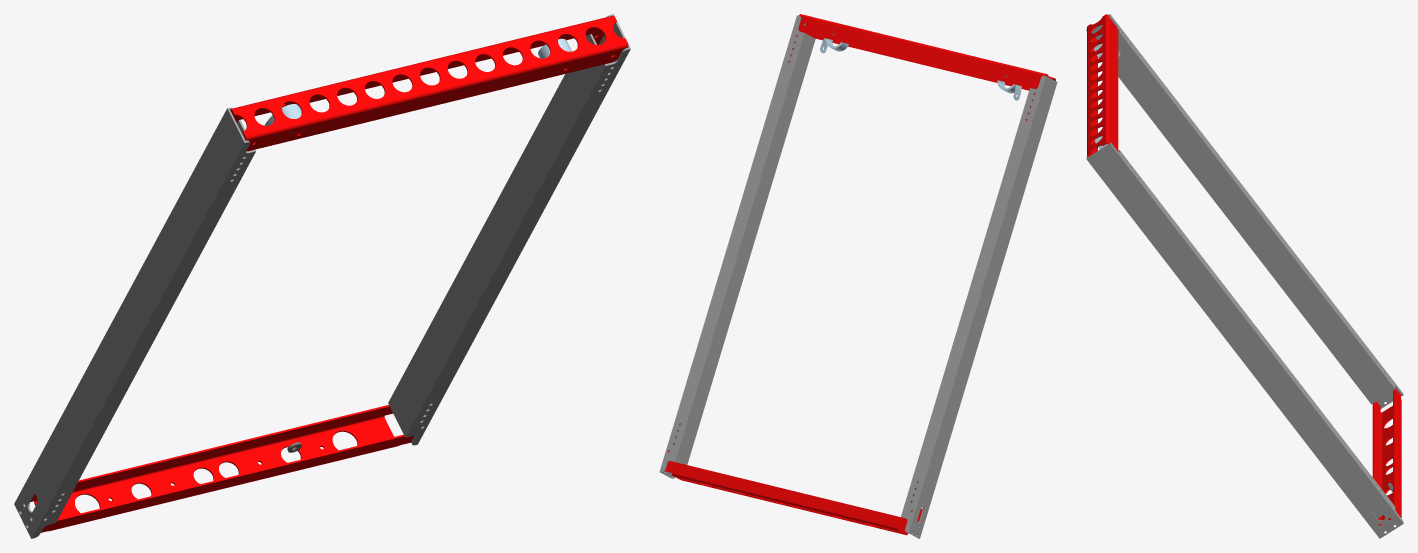
The picture shows the model from 3 angles, left to right: view 1: azimuth 30°, elevation 25°; view 2: azimuth 150°, elevation 25°; view 3: azimuth 270°, elevation 25°; orthographic projection. The views are drawn at different scales.
Parts seen in each view (by area): view 1: Left Stage 1 tube (Use this one in Assembly) (×2), Sheet metal moving stage top brace, Sheet metal Moving stage bottom brace; view 2: Left Stage 1 tube (Use this one in Assembly) (×2), Sheet metal moving stage top brace, Sheet metal Moving stage bottom brace; view 3: Left Stage 1 tube (Use this one in Assembly) (×2), Sheet metal moving stage top brace, Sheet metal Moving stage bottom brace.
Boxes of the visible parts, <box> form: Left Stage 1 tube (Use this one in Assembly) (×2): <box>14,14,630,538</box>; Sheet metal moving stage top brace: <box>230,15,628,151</box>; Sheet metal Moving stage bottom brace: <box>30,405,414,532</box>; Left Stage 1 tube (Use this one in Assembly) (×2): <box>659,15,1057,538</box>; Sheet metal moving stage top brace: <box>788,14,1055,121</box>; Sheet metal Moving stage bottom brace: <box>665,423,922,535</box>; Left Stage 1 tube (Use this one in Assembly) (×2): <box>1086,14,1403,538</box>; Sheet metal moving stage top brace: <box>1087,14,1118,157</box>; Sheet metal Moving stage bottom brace: <box>1372,388,1401,525</box>.
Size of the model in its own units: 0.5334 by 0.7578 by 0.5515.
